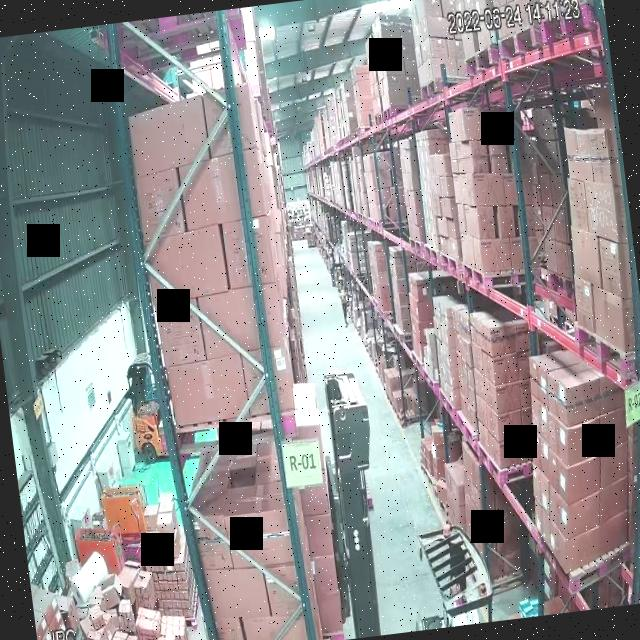box: (143, 225, 230, 299), (125, 96, 212, 169), (179, 155, 267, 224), (165, 357, 250, 426), (197, 290, 284, 352), (224, 510, 298, 570), (201, 562, 271, 624), (541, 503, 605, 565), (241, 338, 295, 410), (152, 300, 207, 366), (226, 222, 276, 287), (135, 173, 187, 235), (543, 481, 597, 530), (190, 515, 231, 569), (547, 449, 590, 499), (570, 224, 602, 285), (151, 556, 187, 608), (564, 124, 594, 182), (586, 125, 614, 182), (599, 237, 623, 299), (460, 103, 497, 143), (94, 570, 127, 611), (566, 425, 604, 460), (564, 385, 602, 419), (132, 601, 164, 640), (472, 172, 506, 207), (567, 179, 589, 233), (442, 458, 466, 504), (480, 238, 512, 272), (539, 172, 565, 209), (154, 509, 177, 545), (489, 325, 515, 355), (493, 354, 519, 383), (377, 11, 411, 33), (532, 107, 555, 139), (429, 53, 457, 79), (83, 602, 107, 632), (497, 439, 525, 464), (489, 140, 509, 174), (495, 385, 521, 411), (498, 203, 516, 239), (469, 140, 489, 172), (477, 206, 496, 239), (498, 414, 523, 439), (424, 13, 449, 37), (385, 55, 406, 75), (429, 36, 449, 56), (388, 91, 408, 106), (383, 45, 398, 59), (388, 75, 400, 90)
